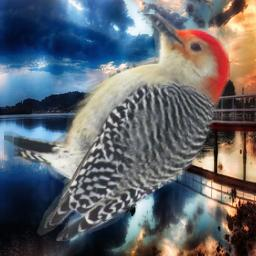Woodpecker: (4, 14, 232, 241)
